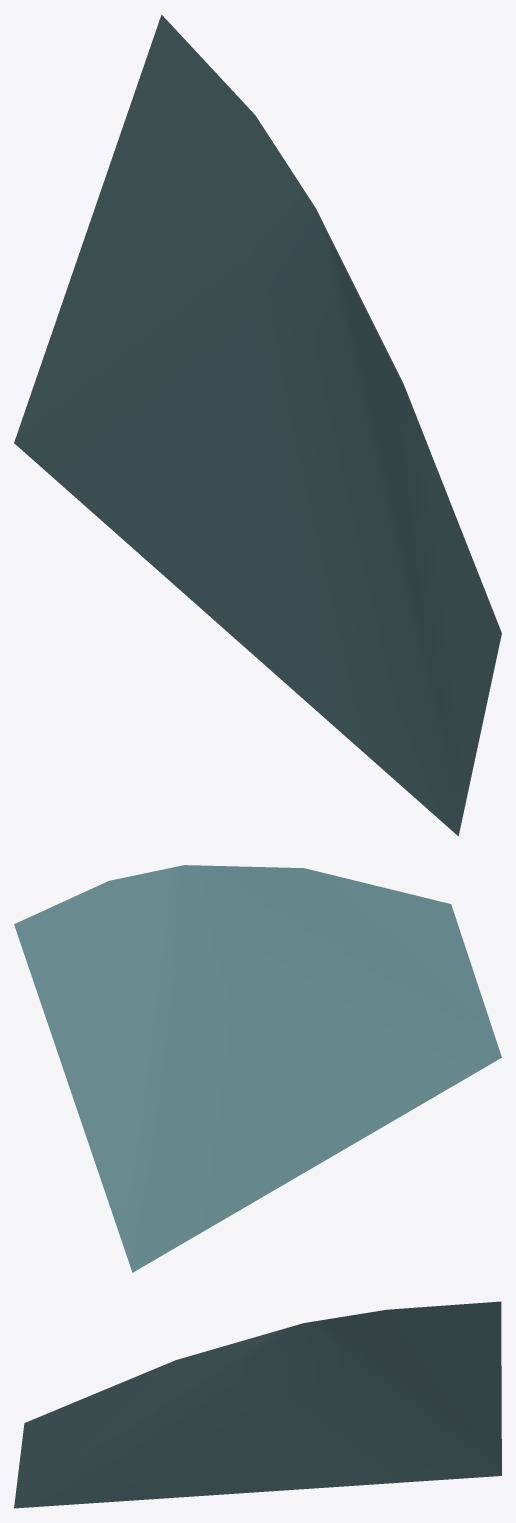
File: SUV_1_Door_Window_FR_Tessellate.fbx
3 renders of one model, top to bottom at view 1: azimuth 30°, elevation 25°; view 2: azimuth 150°, elevation 25°; view 3: azimuth 270°, elevation 25°, orthographic. The views are drawn at different scales.
Visible parts, largest first — view 1: SUV_1_Door_Window_FR_Tessellate; view 2: SUV_1_Door_Window_FR_Tessellate; view 3: SUV_1_Door_Window_FR_Tessellate.
Boxes of the visible parts, left/top/right/bottom form: SUV_1_Door_Window_FR_Tessellate: left=14, top=14, right=501, bottom=836; SUV_1_Door_Window_FR_Tessellate: left=14, top=865, right=501, bottom=1272; SUV_1_Door_Window_FR_Tessellate: left=14, top=1301, right=501, bottom=1508.
Bounding box in the file's own units: 16.66 × 47.7 × 85.3.
